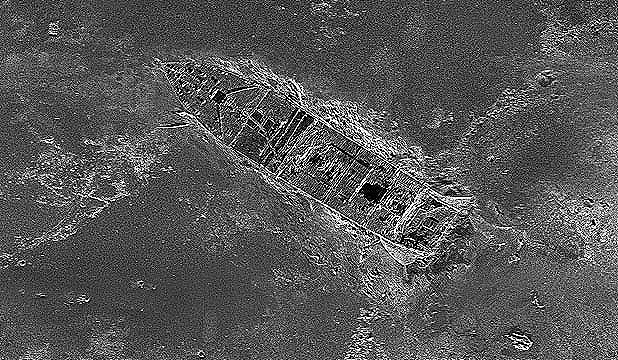ship: (151, 55, 481, 278)
